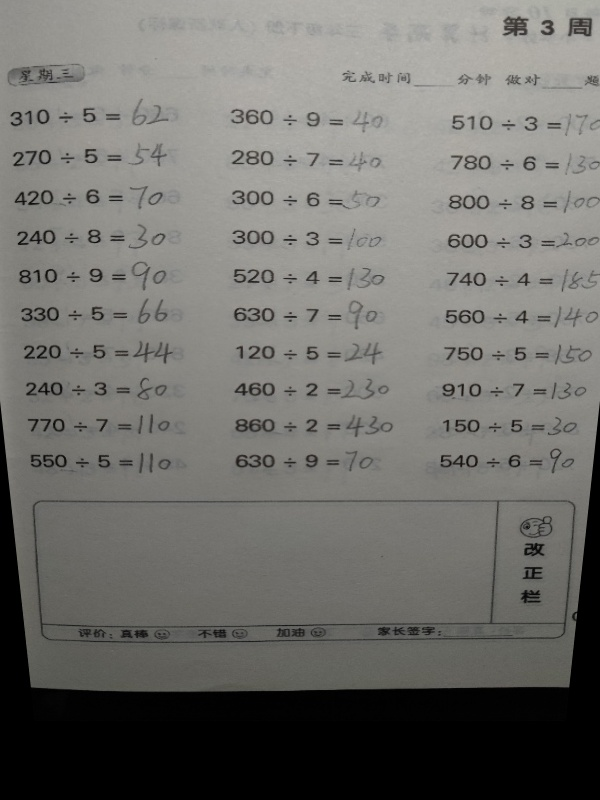equation: (7, 133, 172, 169), (5, 95, 172, 127), (230, 295, 386, 329), (8, 177, 171, 208), (17, 296, 171, 328), (441, 262, 599, 292), (228, 220, 384, 250), (230, 413, 396, 441), (20, 338, 178, 367), (436, 445, 578, 477), (439, 338, 595, 367), (446, 146, 599, 175), (226, 103, 388, 130), (13, 224, 168, 252), (228, 183, 383, 211), (230, 373, 394, 399), (227, 143, 384, 170), (448, 108, 599, 136), (22, 374, 172, 402), (441, 303, 599, 329), (230, 262, 388, 288), (232, 337, 384, 364), (13, 262, 169, 288), (444, 228, 599, 254), (445, 189, 599, 215), (27, 450, 174, 477), (25, 411, 175, 437), (232, 448, 378, 474), (438, 379, 592, 403), (439, 413, 581, 439)
